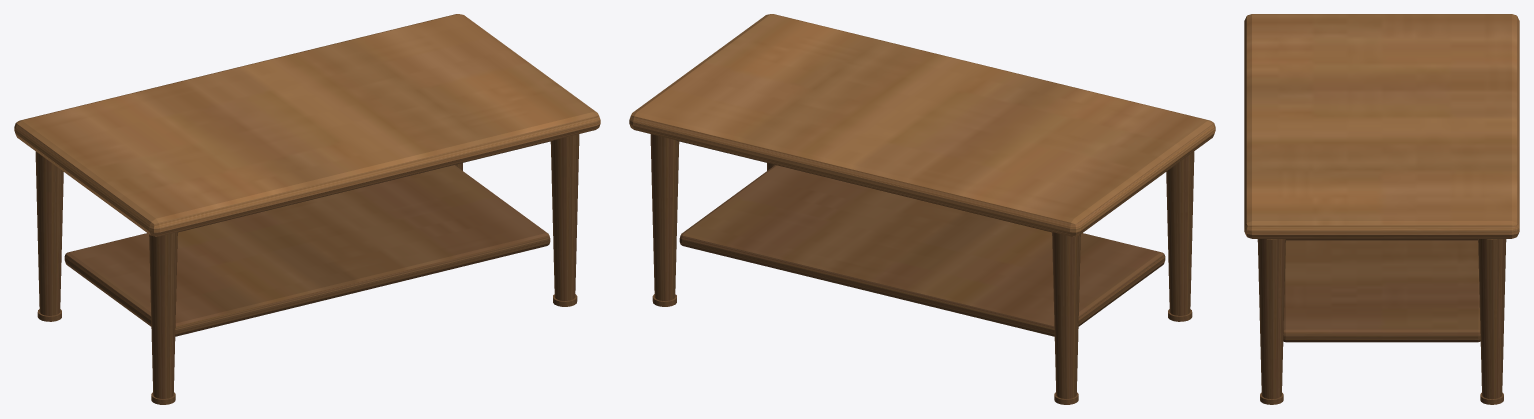
File: coffee_table.glb
3 renders of one model, left to right at view 1: azimuth 30°, elevation 25°; view 2: azimuth 150°, elevation 25°; view 3: azimuth 270°, elevation 25°, orthographic. The views are drawn at different scales.
Visible parts, largest first — view 1: top, shelf, legs; view 2: top, shelf, legs; view 3: top, shelf, legs, apron.
Part boxes in pixels (x1,y1,x2,y2): top: [14, 14, 600, 236]; shelf: [64, 165, 550, 336]; legs: [35, 134, 579, 404]; top: [629, 14, 1215, 236]; shelf: [679, 165, 1165, 336]; legs: [650, 134, 1194, 404]; top: [1244, 14, 1519, 238]; shelf: [1283, 240, 1480, 342]; legs: [1257, 239, 1506, 404]; apron: [1286, 239, 1477, 240].
Size of the model in its own units: 1.1 by 0.45 by 0.6.
Materials: 2 (2 with a texture image).
